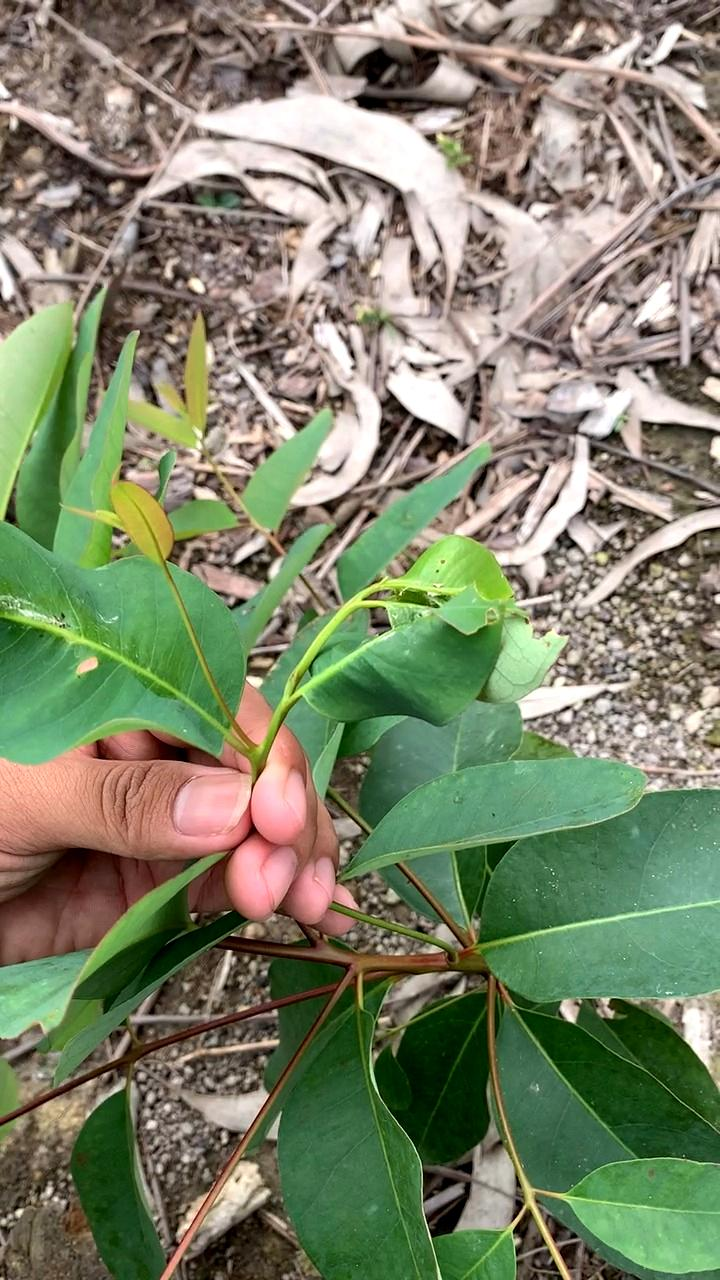Leaf Roller - Leaf: (373, 568, 567, 711)
